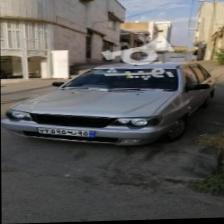plate: (38, 126, 98, 138)
